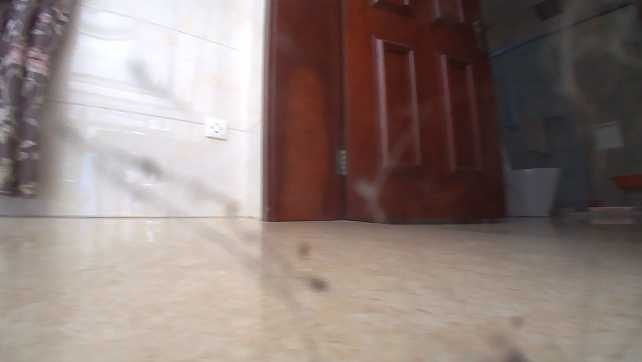door_anno: (313, 1, 509, 222)
toilet: (494, 145, 562, 219)
